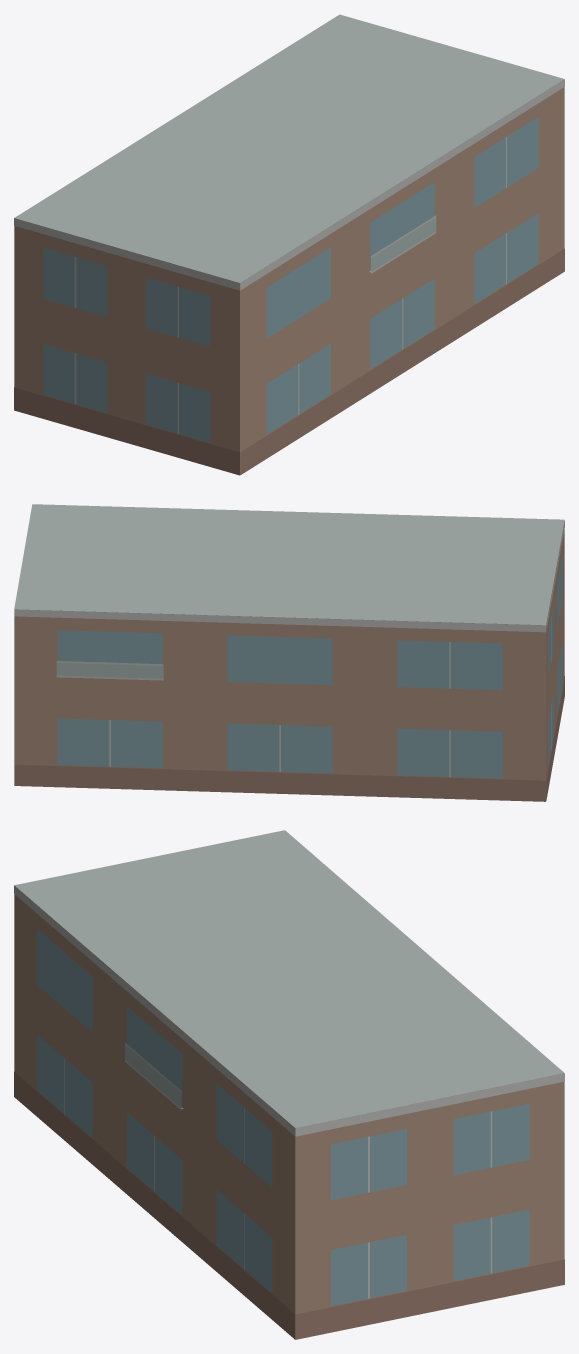
Rendered from survey-upis-33041184.glb.
The picture shows the model from 3 angles, top to bottom: view 1: azimuth 30°, elevation 25°; view 2: azimuth 150°, elevation 25°; view 3: azimuth 270°, elevation 25°; orthographic projection. The views are drawn at different scales.
Parts seen in each view (by area): view 1: survey-upis-33041184.tmp; view 2: survey-upis-33041184.tmp; view 3: survey-upis-33041184.tmp.
Part boxes in pixels (x1,y1,x2,y2): survey-upis-33041184.tmp: (14,14,564,475); survey-upis-33041184.tmp: (14,504,564,801); survey-upis-33041184.tmp: (14,830,564,1339).
Bounding box in the file's own units: 18.44 × 6.1 × 14.39.
